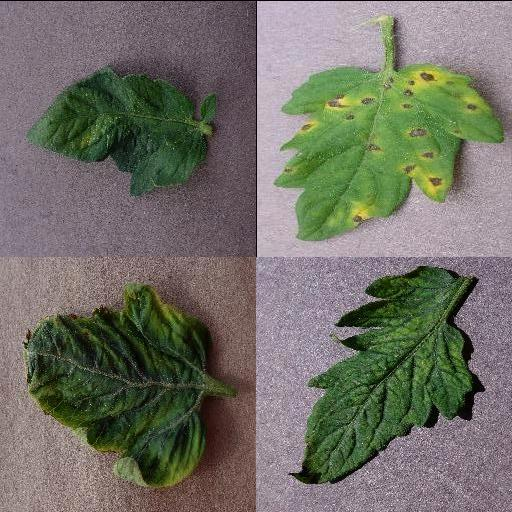Mosaic Virus: (289, 264, 477, 484)
Septoria: (275, 62, 501, 240)
Spider Mites: (25, 70, 207, 196)
Yellow Leaf Curl Virus: (21, 282, 209, 487)
